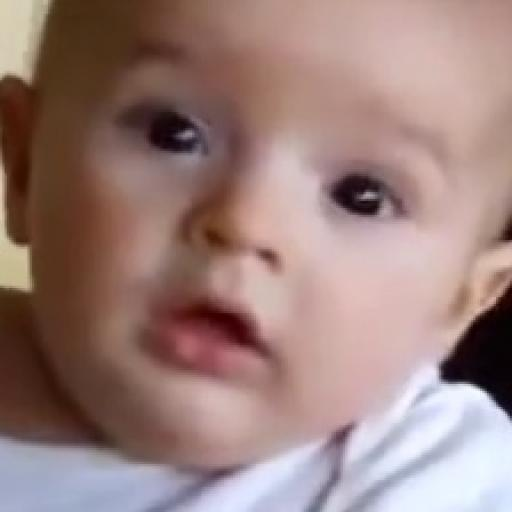Autism: (25, 7, 512, 454)
